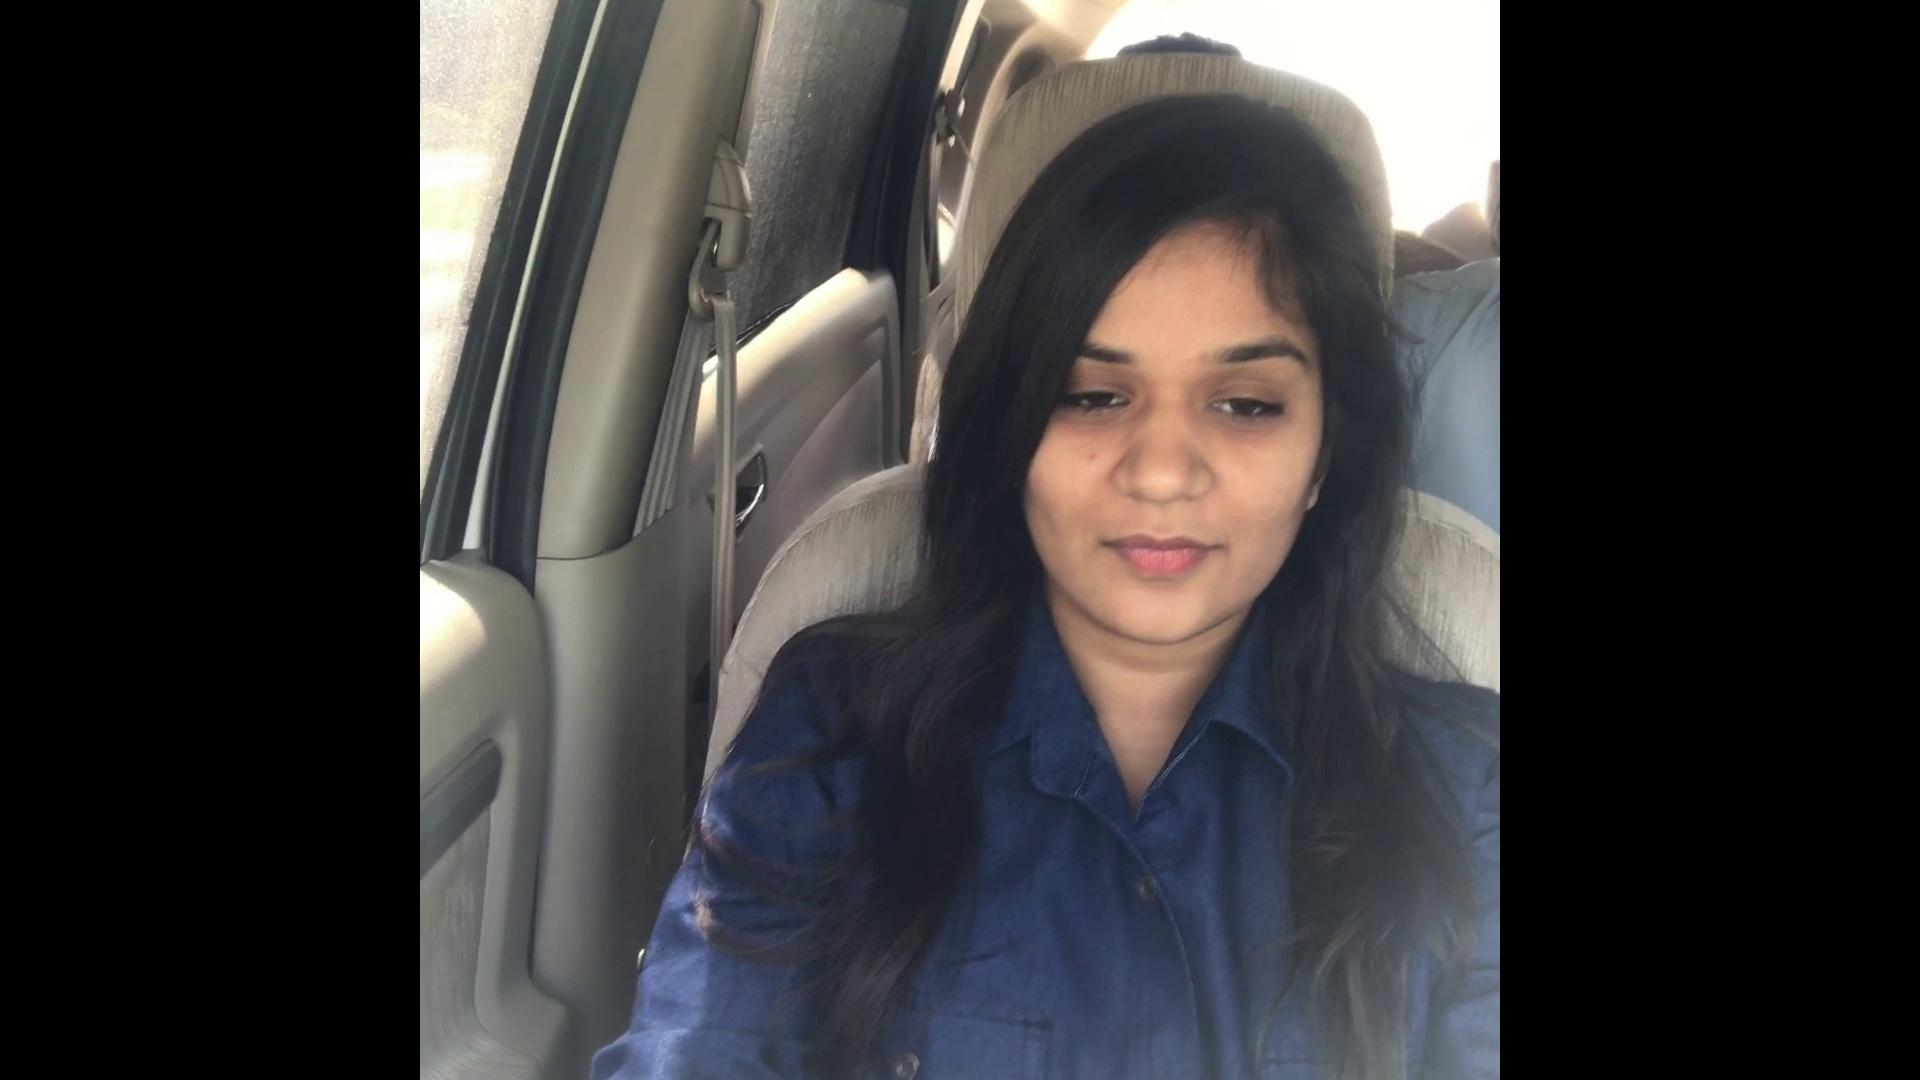Neutral: (971, 269, 1396, 653)
